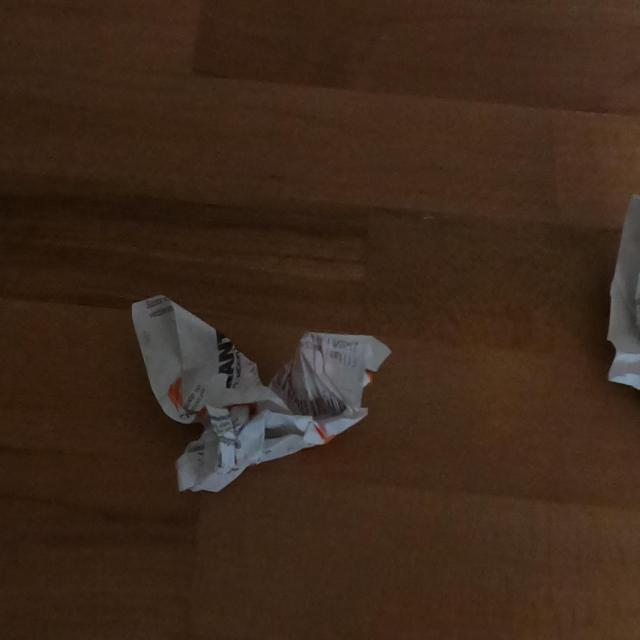Paper: (128, 292, 394, 499)
